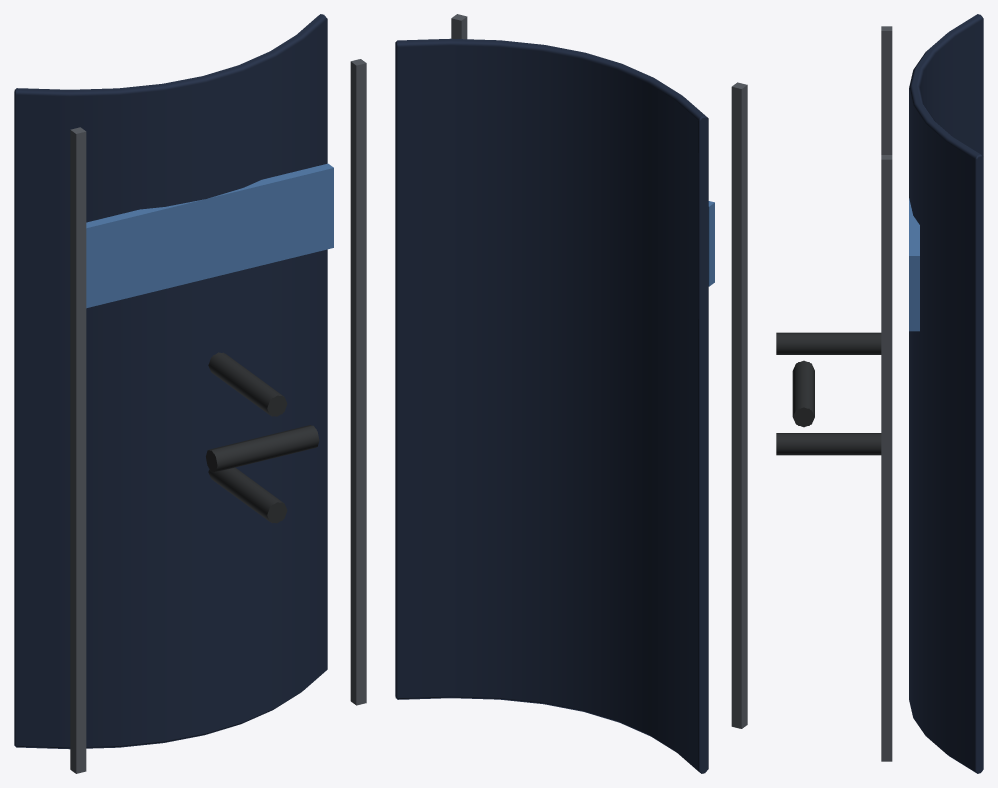
The model's file is m_shield.glb.
The picture shows the model from 3 angles, left to right: view 1: azimuth 30°, elevation 25°; view 2: azimuth 150°, elevation 25°; view 3: azimuth 270°, elevation 25°; orthographic projection. The views are drawn at different scales.
Parts seen in each view (by area): view 1: L0, L1; view 2: L0; view 3: L0, L1.
Part boxes in pixels (x1,y1,x2,y2): L0: [14, 14, 366, 773]; L1: [206, 352, 316, 523]; L0: [395, 14, 747, 773]; L0: [776, 14, 983, 773]; L1: [776, 332, 881, 455].
Size of the model in its own units: 0.3678 by 0.74 by 0.225.
